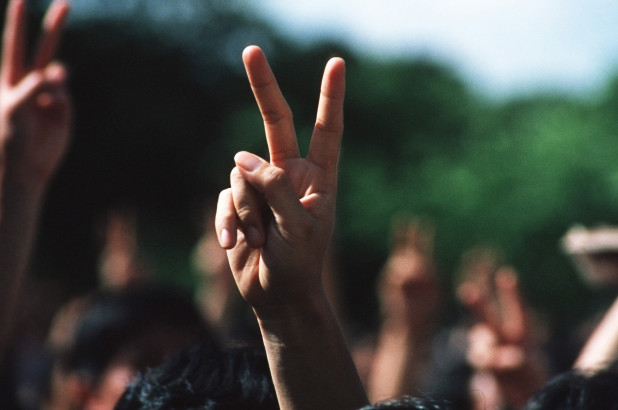peacesign: (205, 42, 357, 314)
